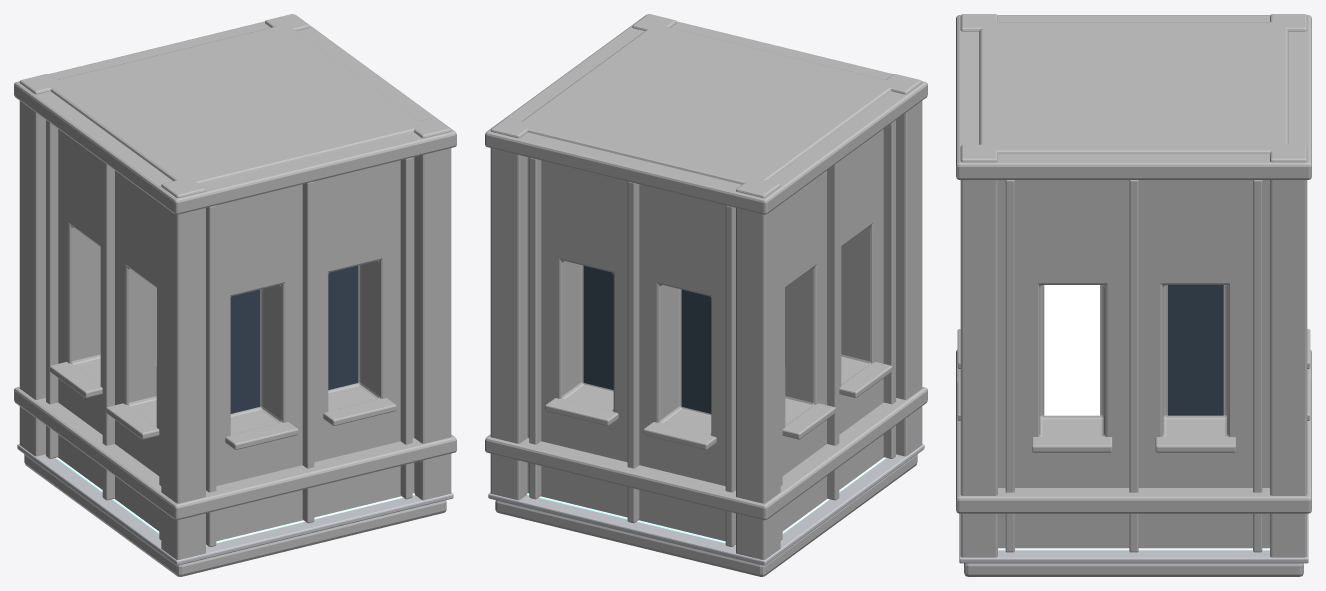
The model's file is concrete_2x2.glb.
3 renders of one model, left to right at view 1: azimuth 30°, elevation 25°; view 2: azimuth 150°, elevation 25°; view 3: azimuth 270°, elevation 25°, orthographic. The views are drawn at different scales.
Parts seen in each view (by area): view 1: ext_wall, int_columns, int_ceiling, ext_frames, ext_ledge_top, ext_ledge_mid, ext_panes_dark, int_slab_edge, int_slab, int_grid; view 2: ext_wall, int_columns, int_ceiling, ext_frames, ext_ledge_top, ext_ledge_mid, ext_panes_dark, int_slab_edge, int_slab, int_grid; view 3: ext_wall, int_ceiling, int_columns, ext_ledge_top, ext_frames, ext_ledge_mid, ext_panes_lit, ext_panes_dark, int_slab, int_slab_edge, int_grid.
Part boxes in pixels (box(x1,y1,x2,y2)): ext_wall: box(58, 129, 414, 541); int_columns: box(19, 14, 451, 559); int_ceiling: box(50, 24, 424, 184); ext_frames: box(46, 120, 412, 546); ext_ledge_top: box(14, 14, 456, 214); ext_ledge_mid: box(14, 387, 456, 520); ext_panes_dark: box(230, 265, 358, 413); int_slab_edge: box(17, 444, 453, 565); int_slab: box(24, 454, 446, 576); int_grid: box(55, 457, 414, 545); ext_wall: box(527, 129, 883, 541); int_columns: box(490, 14, 922, 559); int_ceiling: box(517, 24, 893, 184); ext_frames: box(529, 120, 895, 546); ext_ledge_top: box(485, 14, 927, 214); ext_ledge_mid: box(485, 387, 927, 520); ext_panes_dark: box(583, 265, 711, 413); int_slab_edge: box(488, 444, 924, 565); int_slab: box(495, 454, 917, 576); int_grid: box(527, 457, 886, 545); ext_wall: box(998, 180, 1269, 548); int_ceiling: box(979, 22, 1288, 154); int_columns: box(960, 14, 1307, 557); ext_ledge_top: box(956, 15, 1311, 179); ext_frames: box(957, 180, 1310, 552); ext_ledge_mid: box(956, 349, 1311, 513); ext_panes_lit: box(1044, 285, 1099, 415); ext_panes_dark: box(1168, 285, 1223, 415); int_slab: box(964, 563, 1303, 576); int_slab_edge: box(959, 513, 1308, 563); int_grid: box(998, 548, 1269, 550).
Size of the model in its own units: 2.3 by 3 by 2.3.
